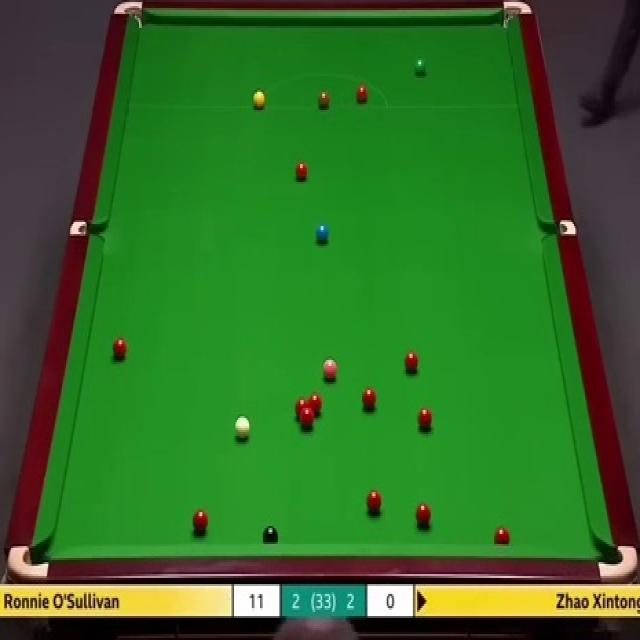black-ball: (262, 525, 280, 546)
blue-ball: (315, 224, 330, 244)
brown-ball: (318, 88, 330, 108)
green-ball: (412, 56, 426, 78)
pink-ball: (322, 359, 339, 384)
red-ball: (191, 509, 210, 535), (414, 502, 432, 528), (404, 349, 420, 375), (112, 338, 127, 365), (366, 486, 380, 514), (293, 160, 309, 183), (417, 408, 431, 434), (362, 386, 377, 410), (294, 398, 308, 422), (309, 393, 322, 418), (494, 525, 510, 545), (300, 411, 316, 430), (354, 84, 367, 105)
white-ball: (233, 415, 252, 438)
yellow-ball: (252, 91, 266, 109)
